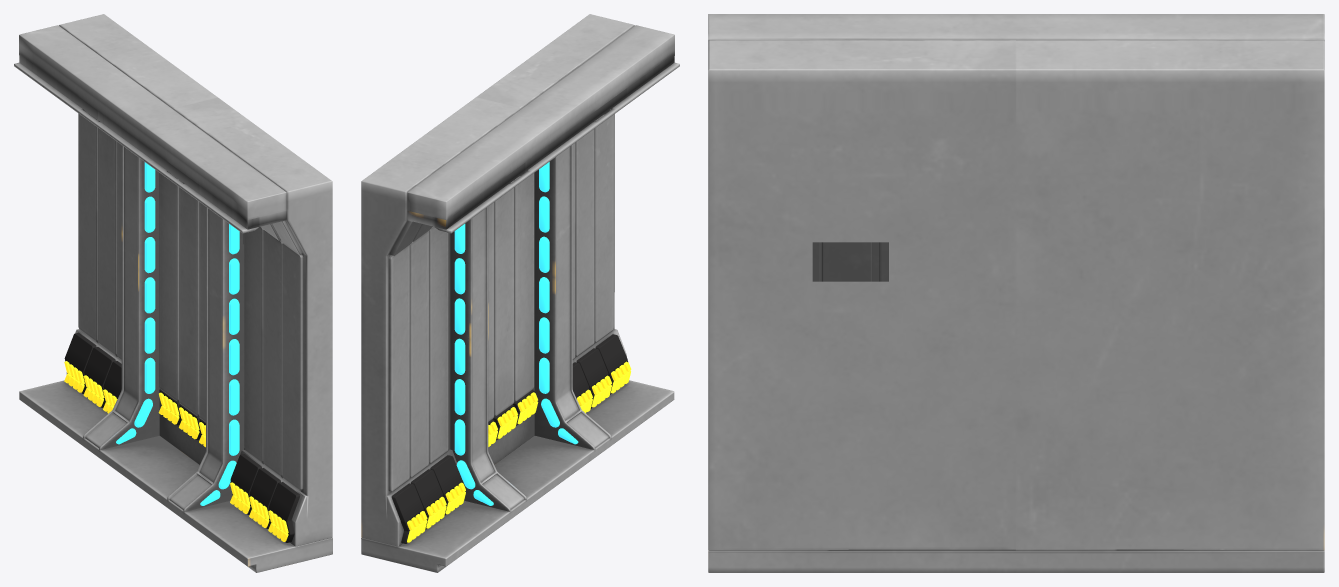
File: muri.fbx
3 renders of one model, left to right at view 1: azimuth 30°, elevation 25°; view 2: azimuth 150°, elevation 25°; view 3: azimuth 270°, elevation 25°, orthographic. The views are drawn at different scales.
Visible parts, largest first — view 1: wall_001_mesh.001, wall_001_mesh, wall_001_mesh.003; view 2: wall_001_mesh.001, wall_001_mesh, wall_001_mesh.003; view 3: wall_001_mesh.001, wall_001_mesh, wall_001_mesh.003.
Boxes of the visible parts, x1,y1,x2,y2 form: wall_001_mesh.001: [78, 113, 332, 496]; wall_001_mesh: [14, 14, 332, 255]; wall_001_mesh.003: [19, 329, 332, 572]; wall_001_mesh.001: [361, 114, 614, 496]; wall_001_mesh: [361, 14, 679, 255]; wall_001_mesh.003: [361, 329, 674, 572]; wall_001_mesh.001: [708, 162, 1324, 486]; wall_001_mesh: [708, 14, 1324, 162]; wall_001_mesh.003: [708, 486, 1324, 572].
Size of the model in its own units: 105 by 413 by 458.
